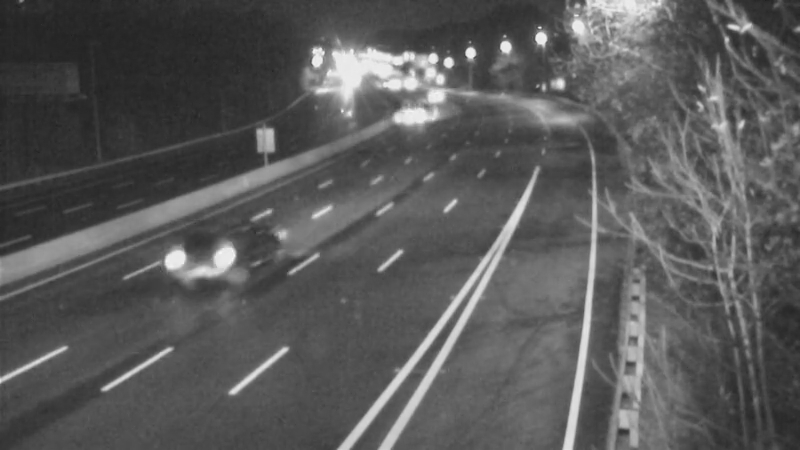vehicle: (158, 220, 238, 300), (410, 68, 460, 118), (374, 100, 424, 150)
